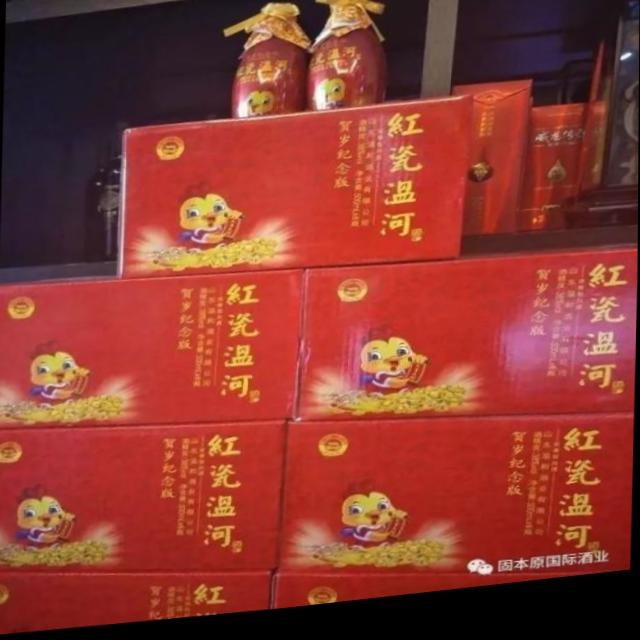box: (293, 240, 637, 429), (117, 104, 473, 281), (277, 425, 633, 586), (0, 264, 305, 429), (0, 425, 287, 575), (0, 572, 274, 633), (451, 91, 532, 248), (271, 581, 609, 614), (518, 115, 594, 243)
